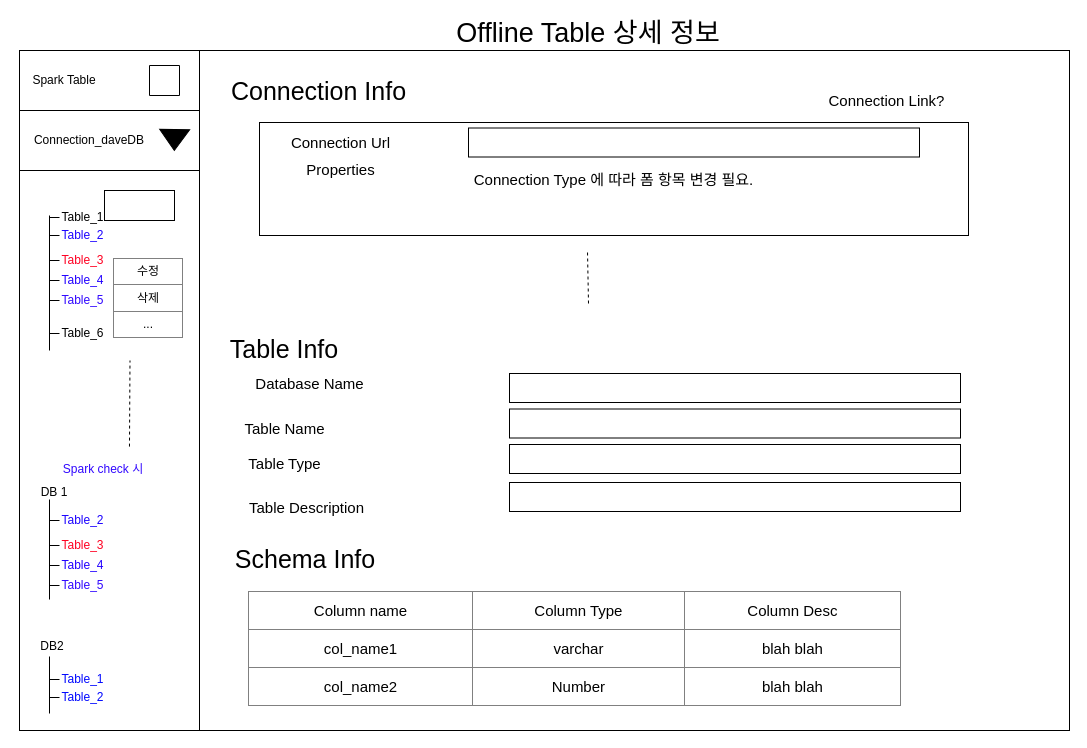
This 1087x748 diagram has some shape labels left out. The box of each missing label's shape, as (x1, y1, x2, y2) in pixels:
jdbc://mysql:localhost:3306/DAVEDB: (468, 127, 920, 157)
등록: (104, 190, 174, 220)
